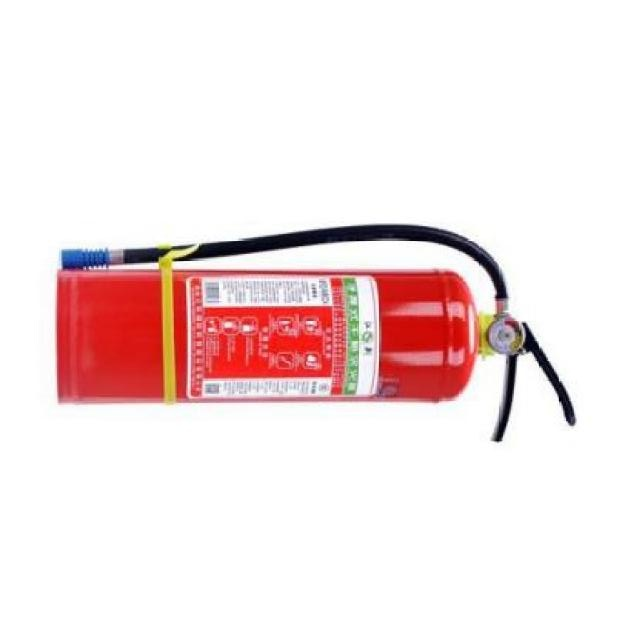fire extinguisher: (55, 223, 576, 443)
